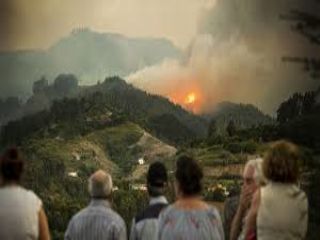fire: (178, 91, 199, 114)
smoke: (134, 38, 270, 98)
